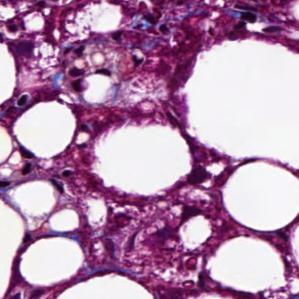inflammation: (56, 49, 110, 101), (9, 33, 47, 68)
